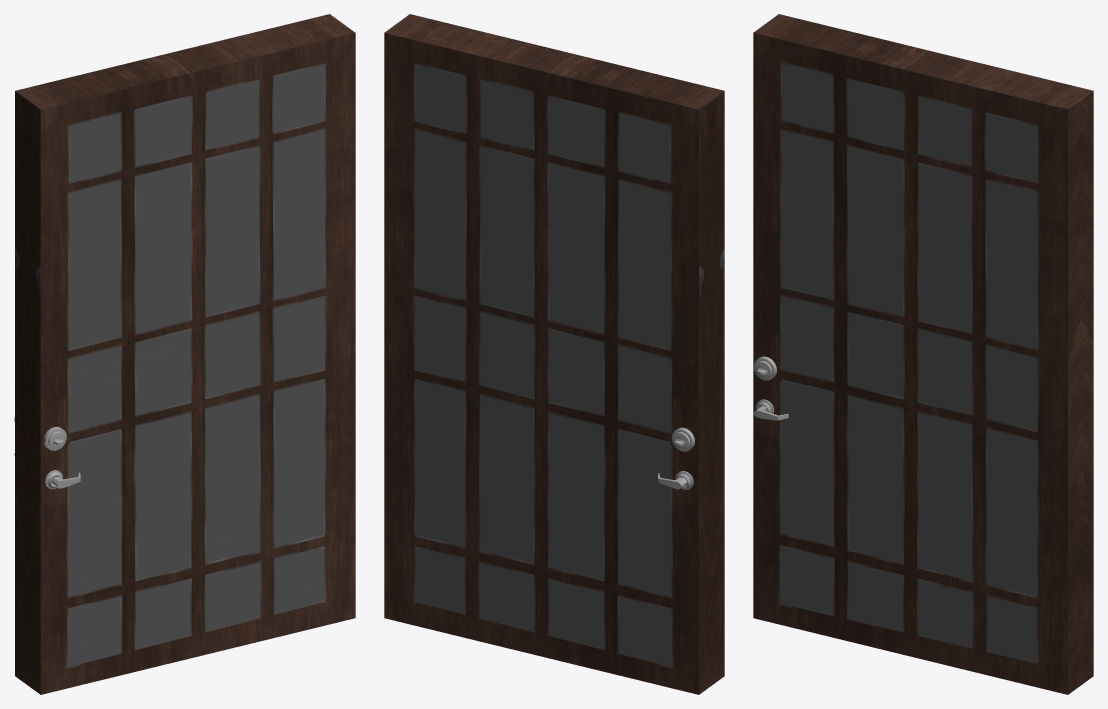
Rendered from Puerta_R.fbx.
3 views of the same model, side by side, from view 1: azimuth 30°, elevation 25°; view 2: azimuth 150°, elevation 25°; view 3: azimuth 330°, elevation 25° (orthographic).
Visible parts, largest first — view 1: Puerta_R; view 2: Puerta_R; view 3: Puerta_R.
Boxes of the visible parts, x1,y1,x2,y2 form: Puerta_R: (14, 14, 355, 694); Puerta_R: (384, 14, 724, 694); Puerta_R: (753, 14, 1093, 694).
Bounding box in the file's own units: 162 × 287 × 38.03.
